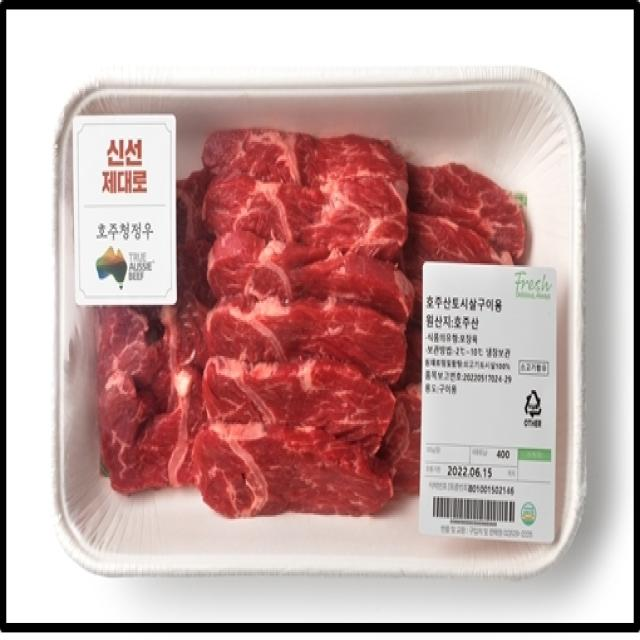beef: (63, 99, 563, 560)
